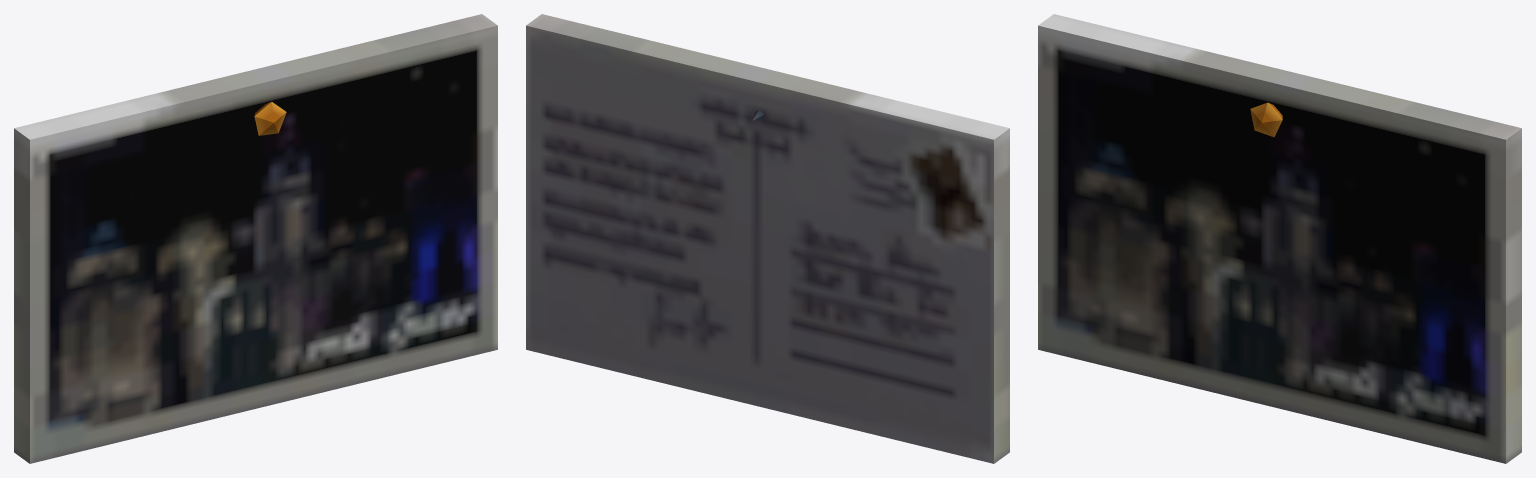
File: postal3.3.fbx
The picture shows the model from 3 angles, left to right: view 1: azimuth 30°, elevation 25°; view 2: azimuth 150°, elevation 25°; view 3: azimuth 330°, elevation 25°; orthographic projection.
Visible parts, largest first — view 1: s4studio_mesh_0; view 2: s4studio_mesh_0; view 3: s4studio_mesh_0.
Boxes of the visible parts, bbox=[...] form: s4studio_mesh_0: bbox=[14, 14, 497, 463]; s4studio_mesh_0: bbox=[526, 14, 1009, 463]; s4studio_mesh_0: bbox=[1038, 14, 1521, 463].
Size of the model in its own units: 24.03 by 15.9 by 2.99.
1 material, 1 textured.
